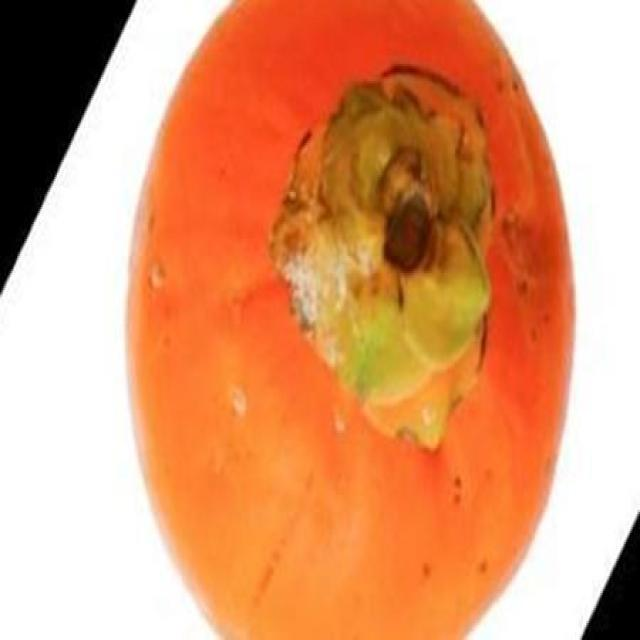good: (124, 0, 577, 638)
